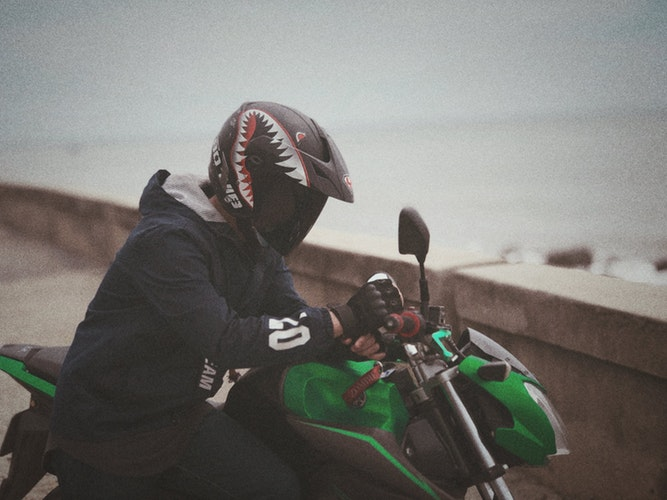helmet: (196, 94, 372, 257)
